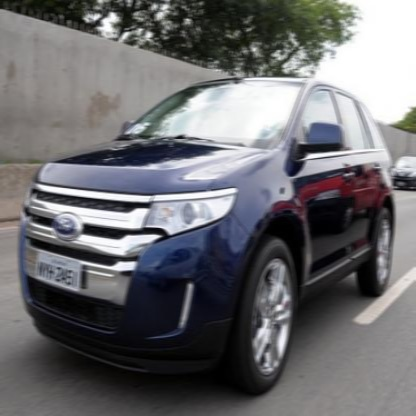Vehicle: (20, 77, 396, 396)
